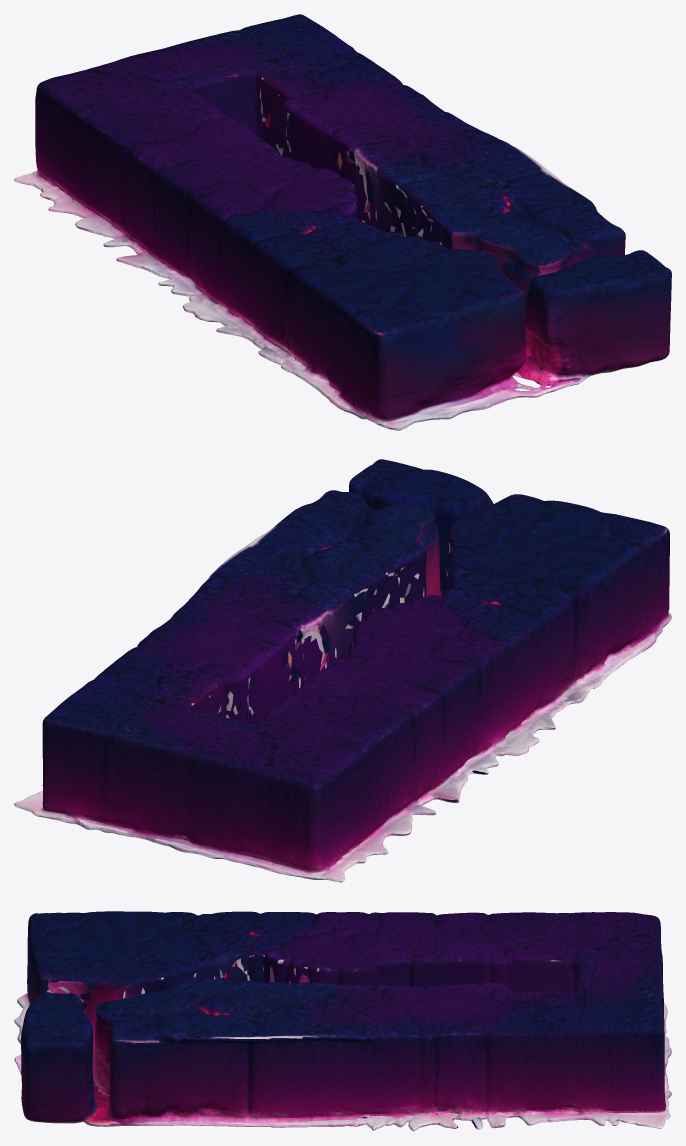
The model's file is approach-stone-1-generated-2026-05-17T18-16-39-754Z.glb.
3 renders of one model, top to bottom at view 1: azimuth 30°, elevation 25°; view 2: azimuth 150°, elevation 25°; view 3: azimuth 270°, elevation 25°, orthographic. The views are drawn at different scales.
Visible parts, largest first — view 1: temp_mesh.ply; view 2: temp_mesh.ply; view 3: temp_mesh.ply.
Boxes of the visible parts, x1=… form: temp_mesh.ply: x1=14, y1=14, x2=671, y2=430; temp_mesh.ply: x1=14, y1=459, x2=671, y2=882; temp_mesh.ply: x1=14, y1=911, x2=671, y2=1131.
Bounding box in the file's own units: 1.06 × 0.3048 × 1.97.
Materials: 1 (1 with a texture image).
